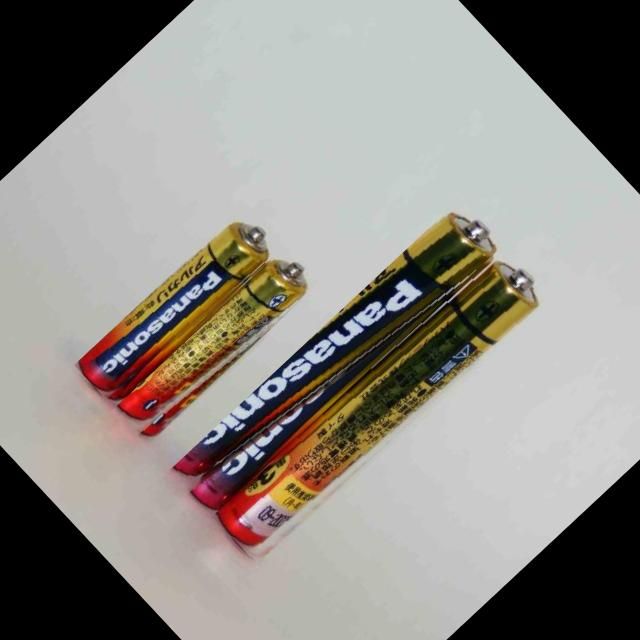Hazard: (156, 199, 510, 536), (211, 242, 558, 574), (108, 246, 324, 454), (73, 202, 289, 408)
